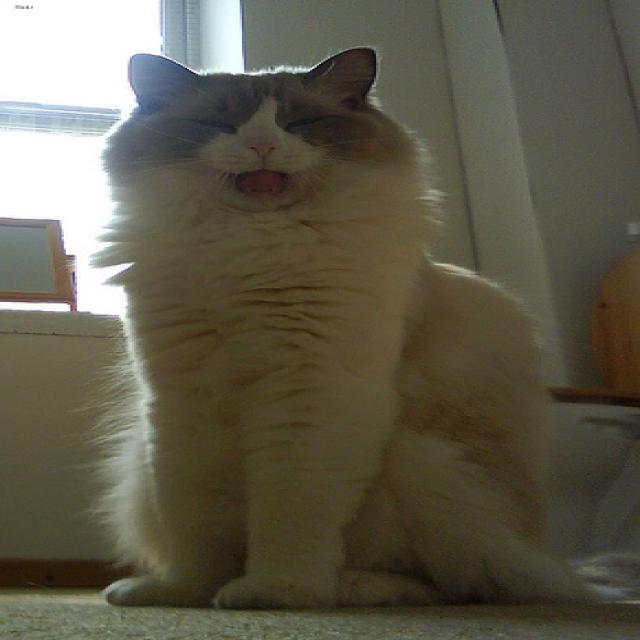Ragdoll: (125, 45, 374, 210)
